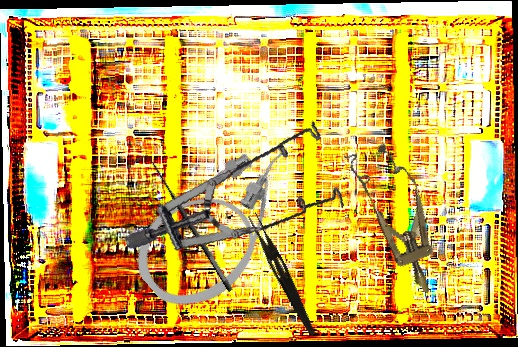Cannula: (118, 127, 325, 327)
Dressing Forceps: (243, 211, 322, 338)
Hook Surgical: (133, 148, 236, 299)
Speculum: (122, 89, 359, 288), (343, 135, 455, 304)
